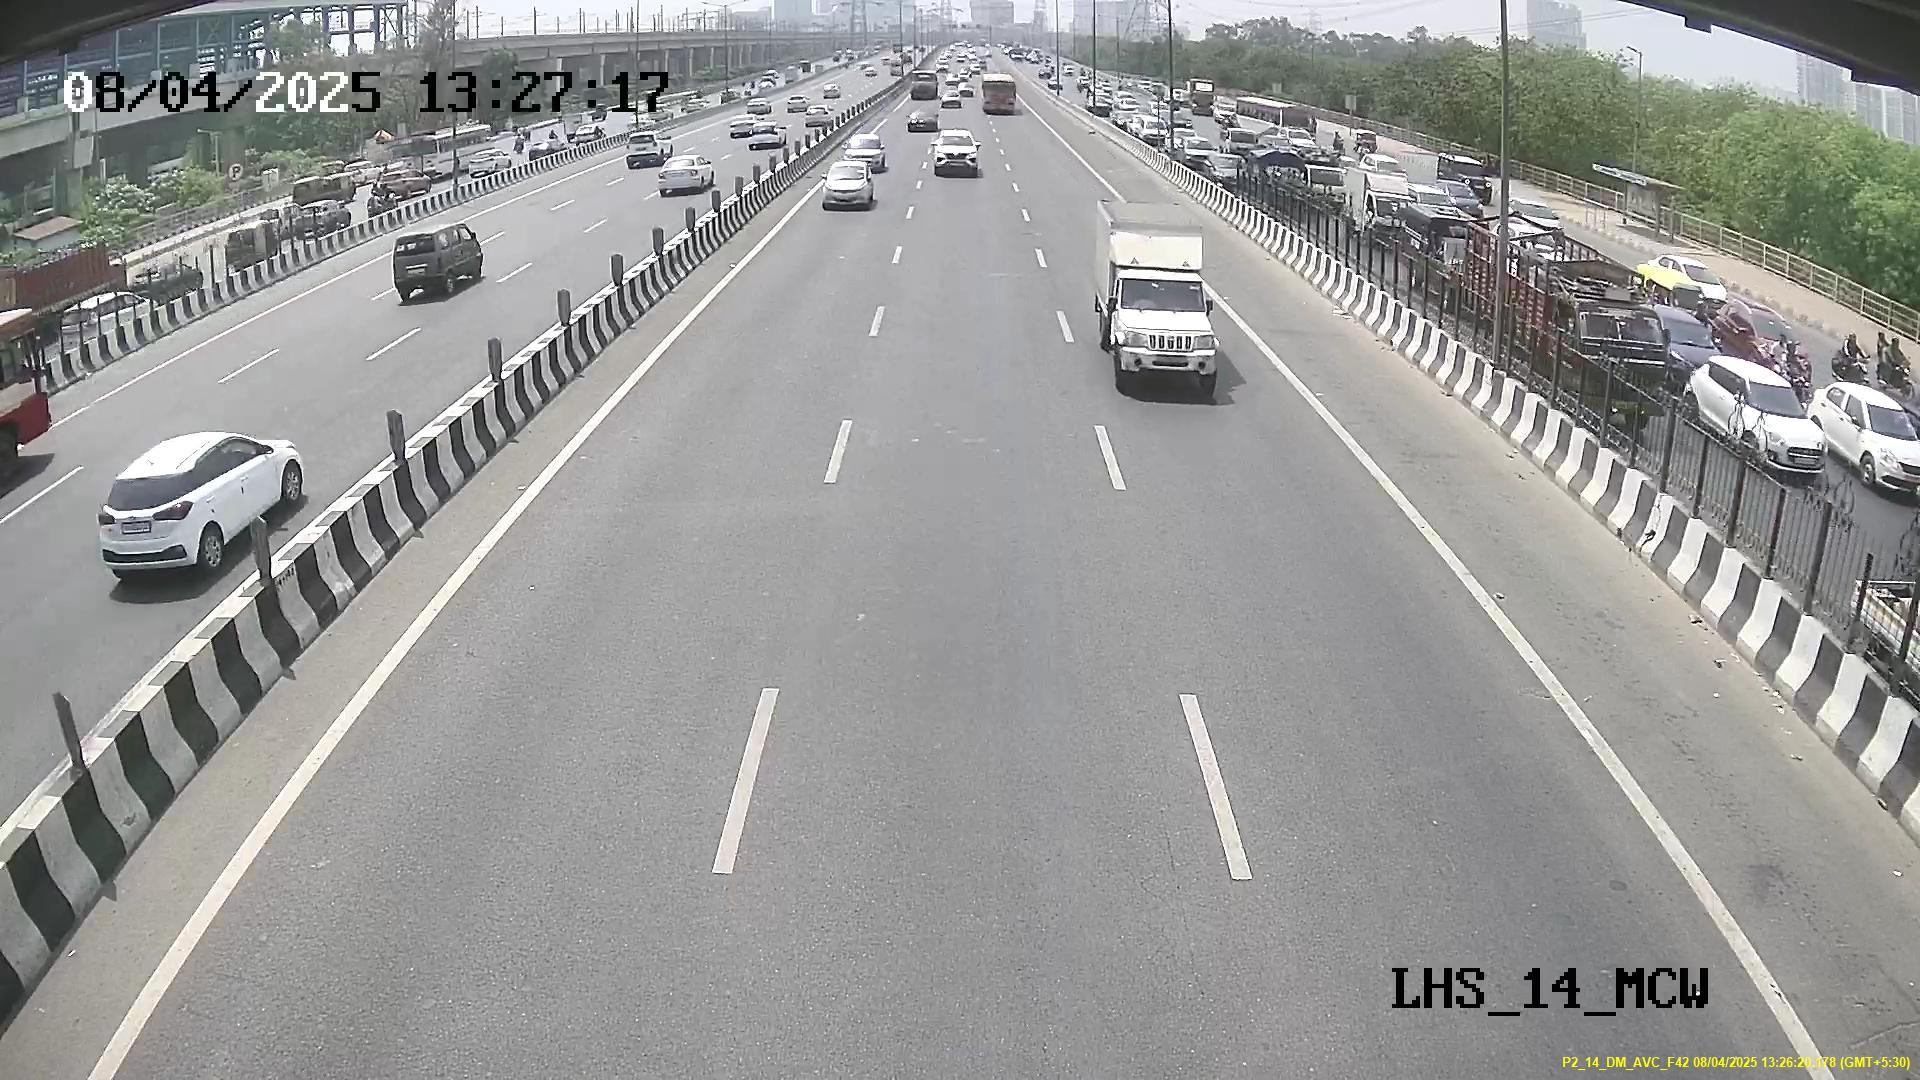car: (1104, 268, 1221, 392)
